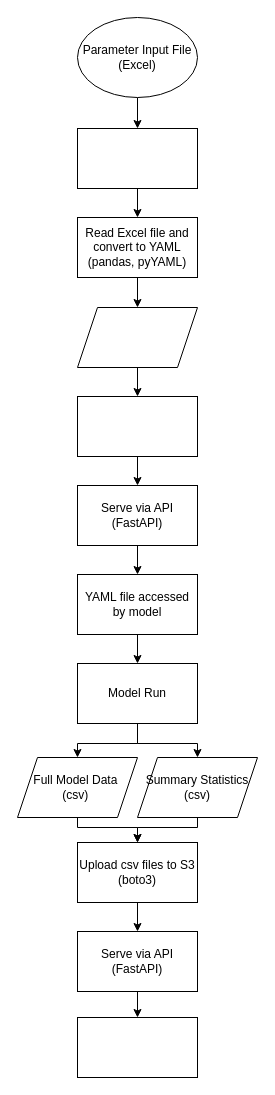
The diagram is 275 pixels wide and 1095 high, and some of its shapes have lost their labels. Here are the shapes that lost their labels. From the top down, the centre of each, then its label:
At pixel 137 158: "Upload Excel file to S3 (boto3)".
At pixel 137 337: "YAML file".
At pixel 137 426: "Upload YAML file to S3 (boto3)".
At pixel 137 1047: "Dashboard Developer".
